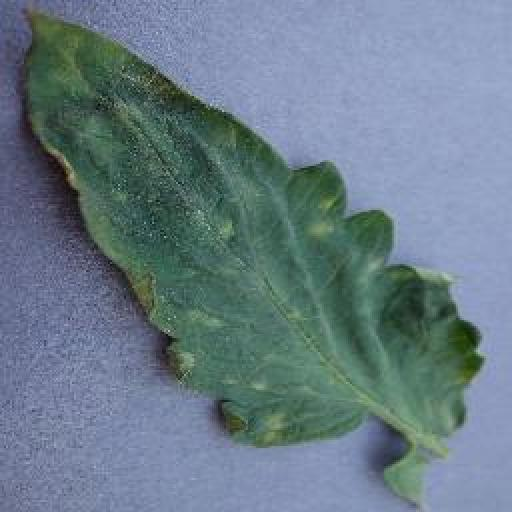disease_tomato: (20, 6, 486, 464)
